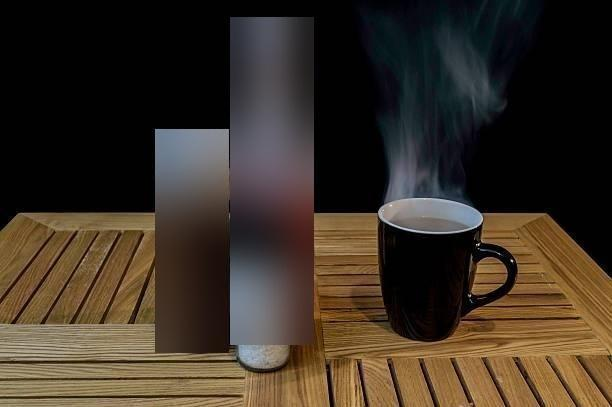cup-handle: (376, 196, 518, 344)
